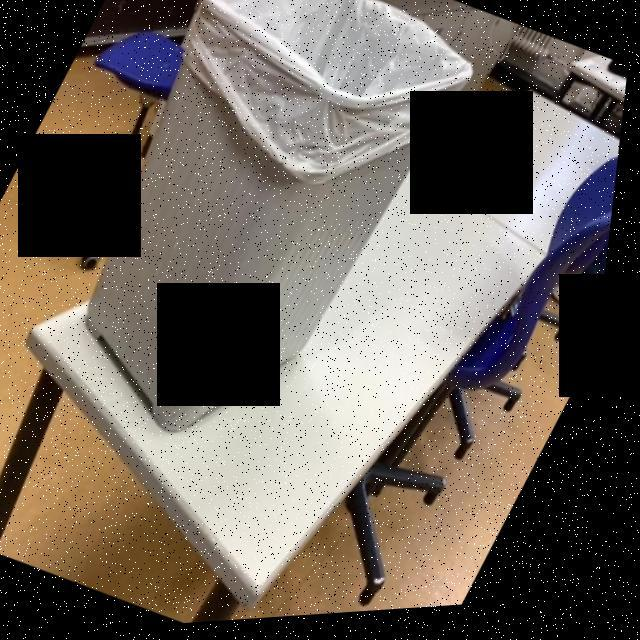bin: (0, 0, 516, 511)
